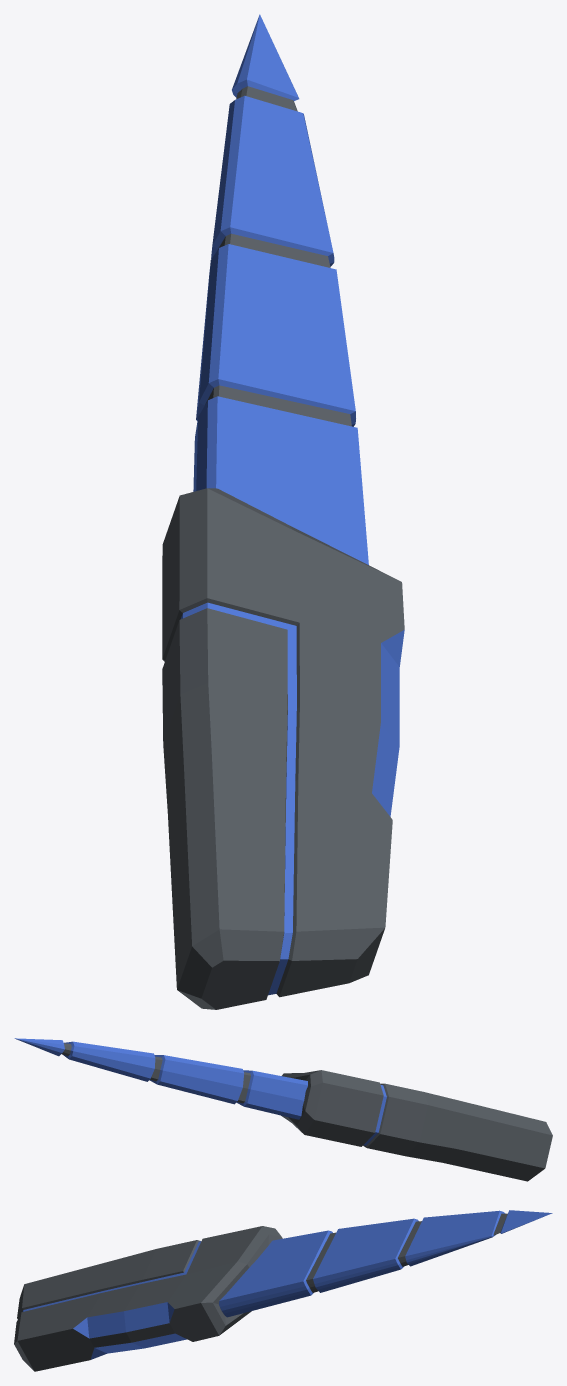
Rendered from Fighter_03_Left_Wing_Blue.fbx.
3 views of the same model, one above another, from view 1: azimuth 30°, elevation 25°; view 2: azimuth 150°, elevation 25°; view 3: azimuth 270°, elevation 25° (orthographic). The views are drawn at different scales.
Visible parts, largest first — view 1: Fighter_03_Left_Wing_Blue; view 2: Fighter_03_Left_Wing_Blue; view 3: Fighter_03_Left_Wing_Blue.
Boxes of the visible parts, x1,y1,x2,y2 form: Fighter_03_Left_Wing_Blue: (162, 14, 404, 1009); Fighter_03_Left_Wing_Blue: (14, 1038, 552, 1181); Fighter_03_Left_Wing_Blue: (14, 1210, 552, 1371).
Size of the model in its own units: 590 by 501 by 932.
Materials: 1 (1 with a texture image).
